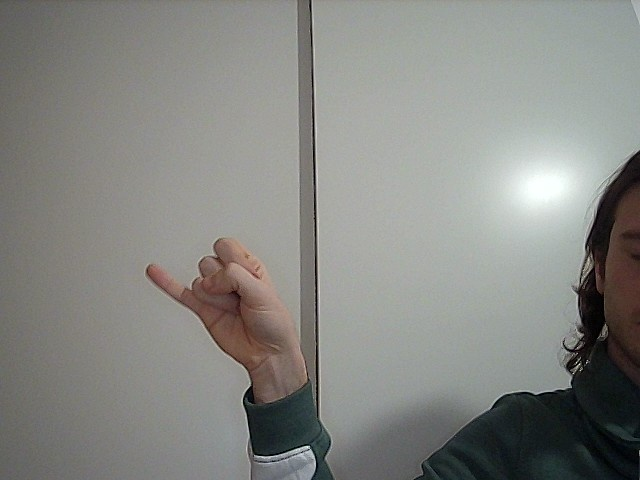j: (136, 219, 313, 362)
